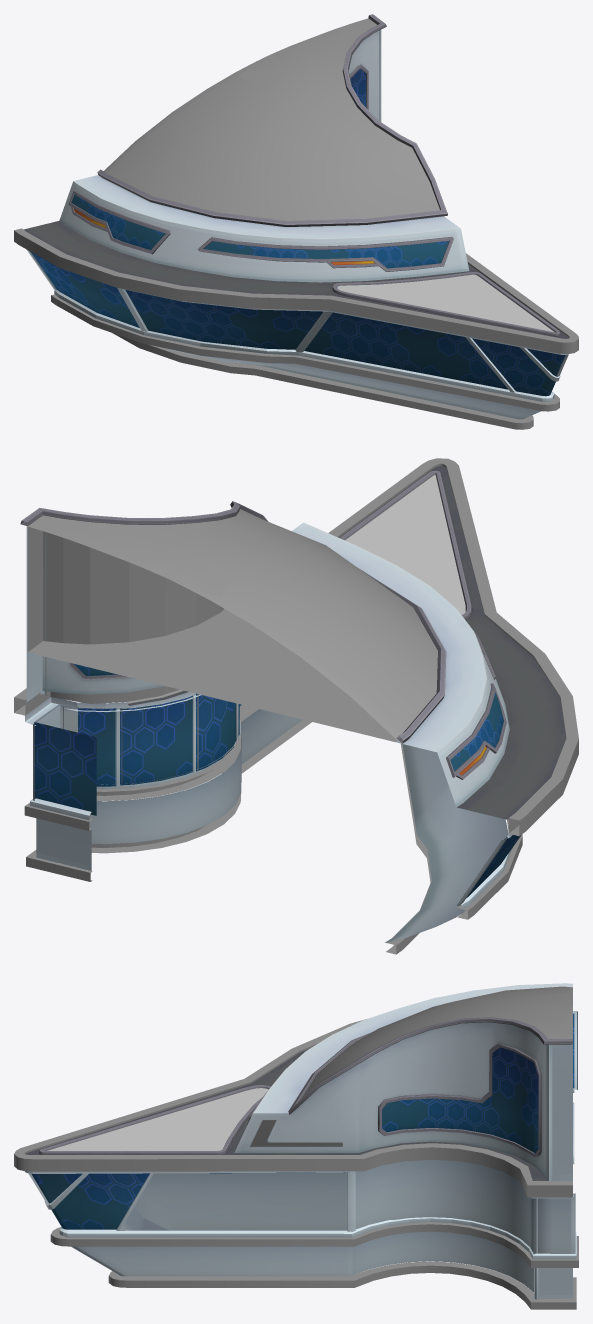
Rendered from mesh_1002_props03.FBX.
The picture shows the model from 3 angles, top to bottom: view 1: azimuth 30°, elevation 25°; view 2: azimuth 150°, elevation 25°; view 3: azimuth 270°, elevation 25°; orthographic projection. The views are drawn at different scales.
Parts seen in each view (by area): view 1: mesh_1002_props3d, mesh_1002_props03c, mesh_1002_props03a, mesh_1002_props03b, mesh_1002_props03e; view 2: mesh_1002_props03a, mesh_1002_props3d, mesh_1002_props03f, mesh_1002_props03c, mesh_1002_props03b, mesh_1002_props03e; view 3: mesh_1002_props03a, mesh_1002_props03g, mesh_1002_props03b, mesh_1002_props03c, mesh_1002_props3d, mesh_1002_props03e.
Boxes of the visible parts, <box> form: mesh_1002_props3d: <box>103,18,439,220</box>; mesh_1002_props03c: <box>31,14,565,396</box>; mesh_1002_props03a: <box>23,30,570,419</box>; mesh_1002_props03b: <box>14,228,578,429</box>; mesh_1002_props03e: <box>337,274,554,332</box>; mesh_1002_props03a: <box>25,466,566,942</box>; mesh_1002_props3d: <box>27,509,437,743</box>; mesh_1002_props03f: <box>27,512,397,741</box>; mesh_1002_props03c: <box>20,470,521,897</box>; mesh_1002_props03b: <box>14,458,578,954</box>; mesh_1002_props03e: <box>345,475,465,614</box>; mesh_1002_props03a: <box>25,983,577,1299</box>; mesh_1002_props03g: <box>120,1159,571,1253</box>; mesh_1002_props03b: <box>14,1019,578,1309</box>; mesh_1002_props03c: <box>31,1013,574,1229</box>; mesh_1002_props3d: <box>301,986,572,1098</box>; mesh_1002_props03e: <box>47,1088,268,1150</box>.
Size of the model in its own units: 2520 by 1631 by 3082.
